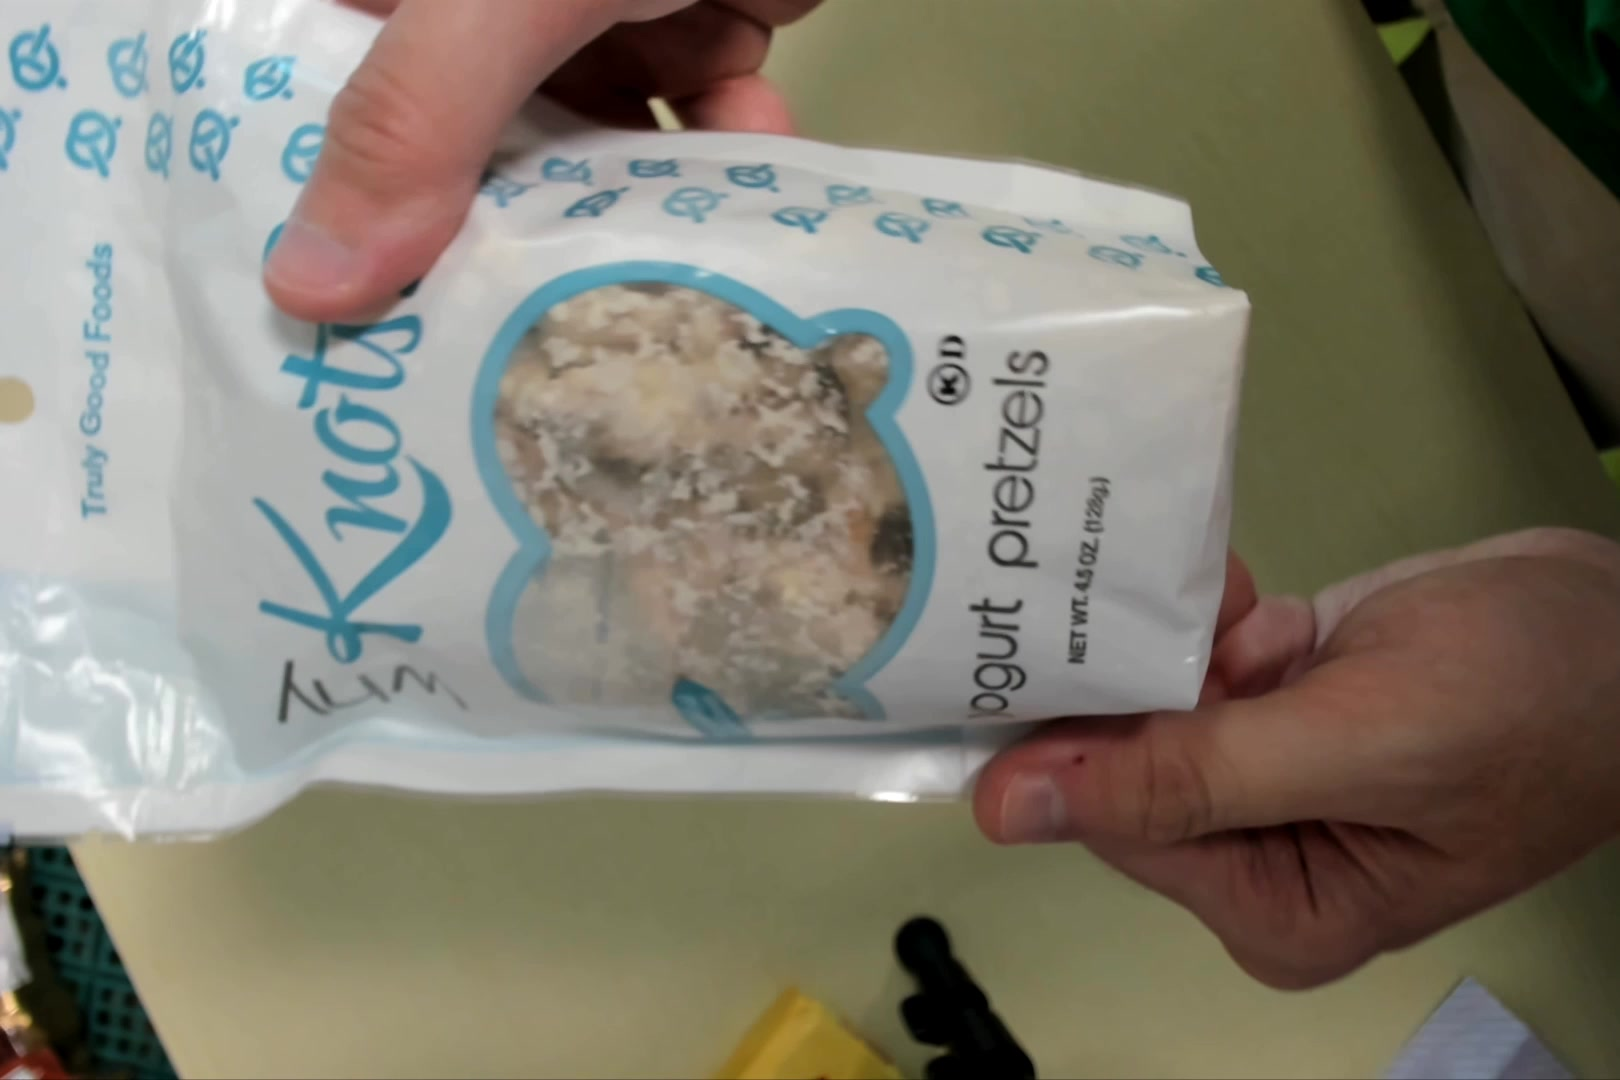SweetsChocolatesOthers_100-199g_NonHalal_NonHealthy: (1, 4, 1248, 847)
